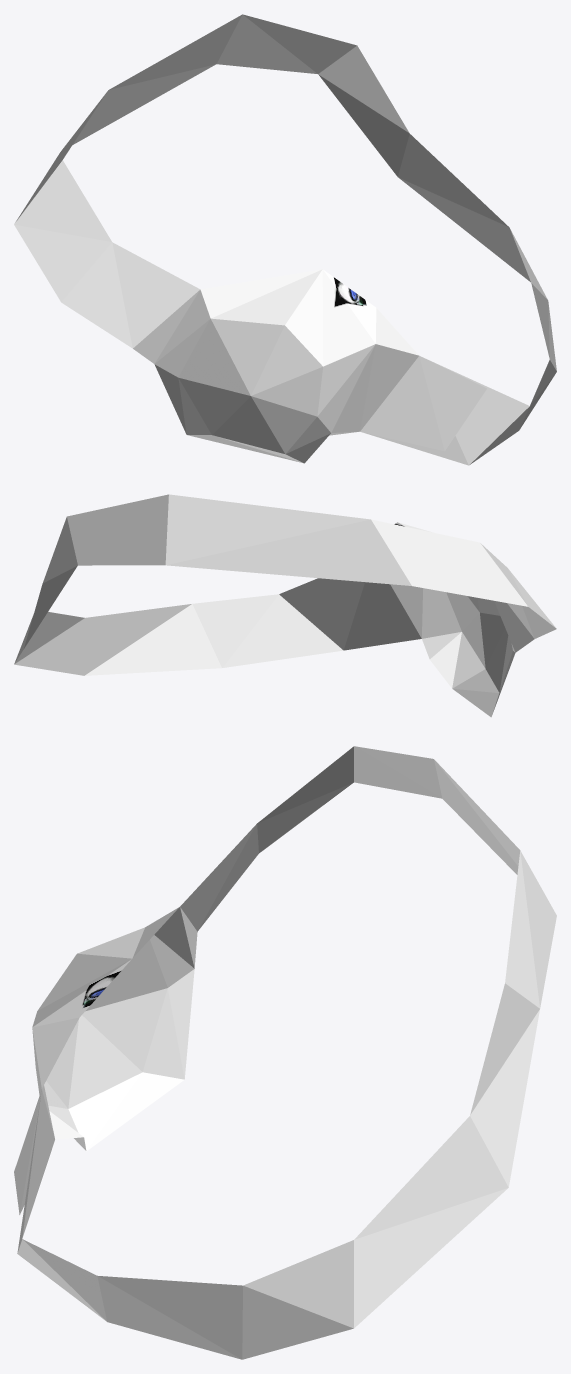
File: ChameleoncksterGoggle.obj
3 views of the same model, one above another, from view 1: azimuth 30°, elevation 25°; view 2: azimuth 150°, elevation 25°; view 3: azimuth 270°, elevation 25° (orthographic). The views are drawn at different scales.
Visible parts, largest first — view 1: Chameleon_tricksterGoggle; view 2: Chameleon_tricksterGoggle; view 3: Chameleon_tricksterGoggle.
Boxes of the visible parts, x1=… form: Chameleon_tricksterGoggle: x1=14, y1=14, x2=556, y2=465; Chameleon_tricksterGoggle: x1=14, y1=494, x2=556, y2=717; Chameleon_tricksterGoggle: x1=14, y1=746, x2=556, y2=1359.
Bounding box in the file's own units: 0.289 × 0.1723 × 0.21.
1 material, 1 textured.
